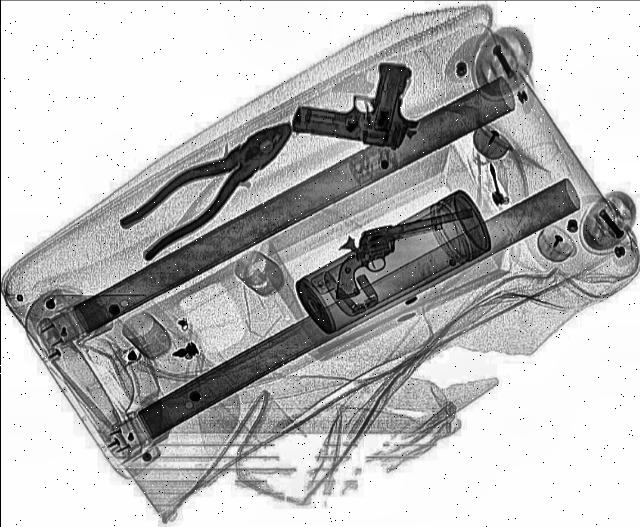Gun: (309, 205, 491, 298), (286, 49, 429, 151)
Pliers: (102, 108, 314, 262)
